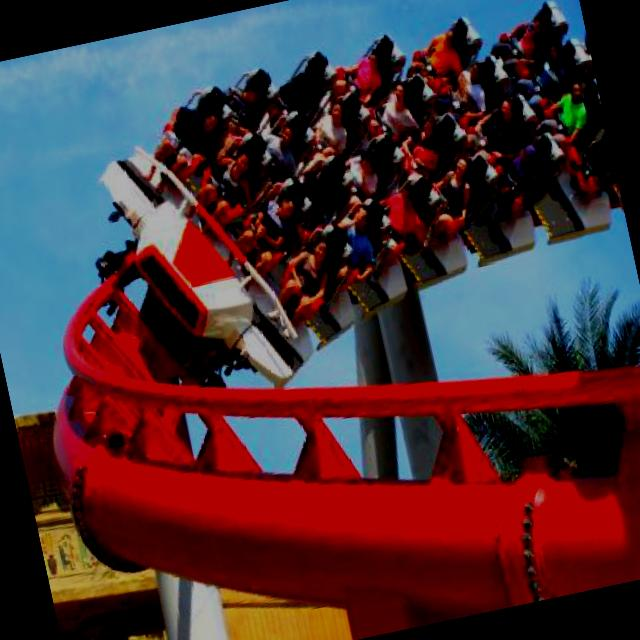Person: (224, 188, 314, 280), (270, 230, 344, 326), (417, 15, 488, 106), (186, 144, 260, 226), (144, 100, 223, 174), (301, 100, 358, 176), (425, 152, 477, 235), (378, 184, 428, 260), (512, 46, 569, 112), (536, 84, 593, 148), (250, 122, 302, 190), (221, 78, 271, 144), (338, 200, 378, 280), (488, 18, 548, 71), (442, 64, 490, 120), (500, 143, 542, 207), (475, 98, 521, 154), (338, 149, 385, 199)
